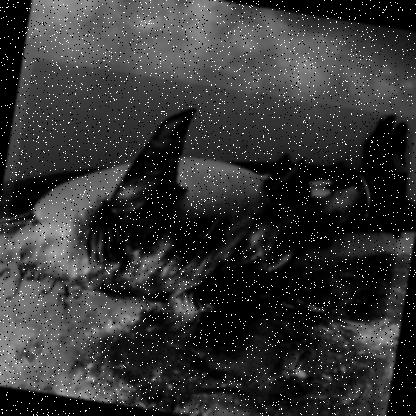bulldog-shark: (0, 55, 415, 336)
